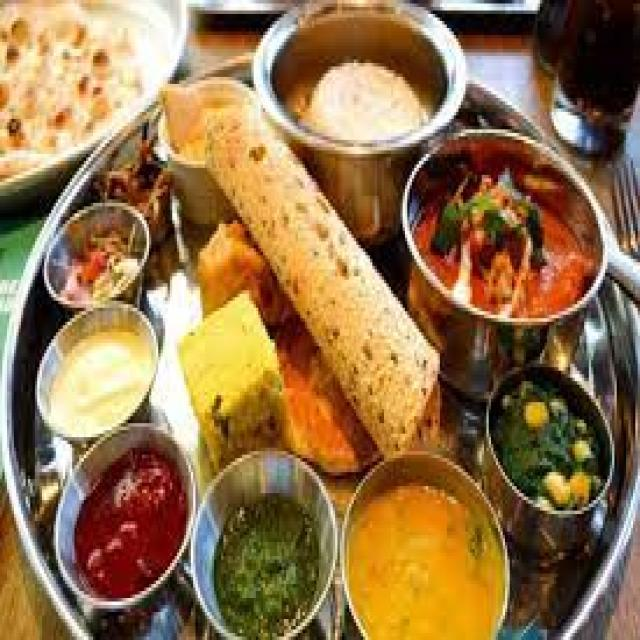pickle: (70, 432, 186, 592)
roti: (0, 1, 170, 178)
veg-fry: (404, 142, 600, 344), (481, 359, 618, 526), (45, 198, 149, 318)
